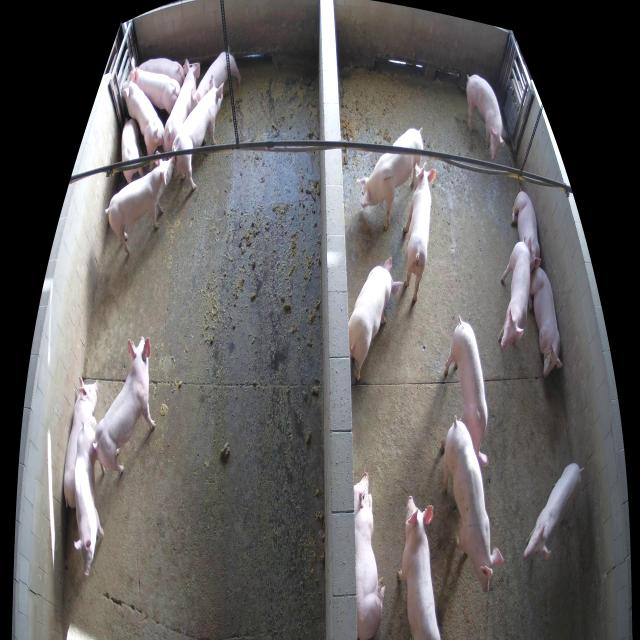pig: (440, 415, 503, 593), (93, 336, 156, 473), (348, 256, 403, 381), (356, 127, 423, 229), (108, 155, 176, 255), (444, 316, 488, 467), (397, 495, 441, 639), (172, 74, 224, 191), (523, 464, 584, 557), (354, 473, 385, 639), (64, 376, 99, 509), (74, 427, 104, 576), (404, 163, 436, 302), (528, 266, 563, 375), (122, 71, 163, 156), (498, 242, 530, 349), (164, 59, 200, 152), (466, 74, 504, 161), (131, 56, 180, 116), (192, 52, 242, 108), (512, 192, 542, 272), (122, 120, 144, 183), (137, 58, 184, 85)
